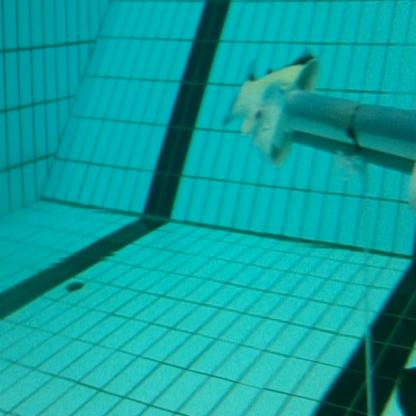tail: (223, 54, 319, 166)
